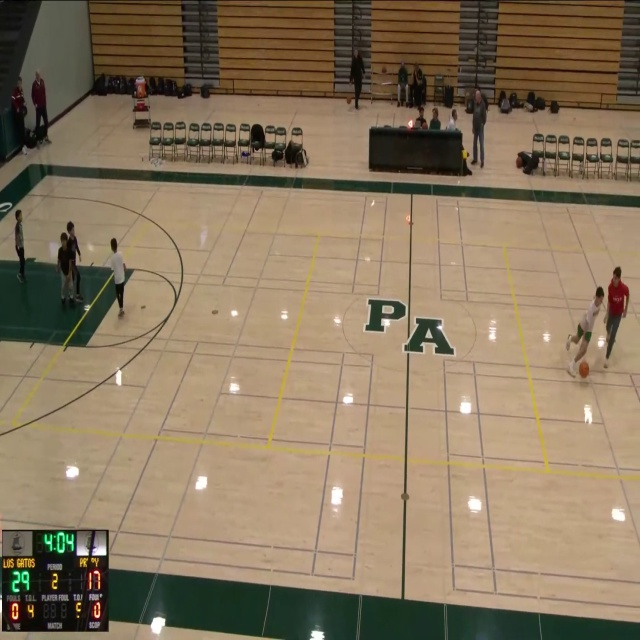Basketball: (579, 361, 589, 378)
